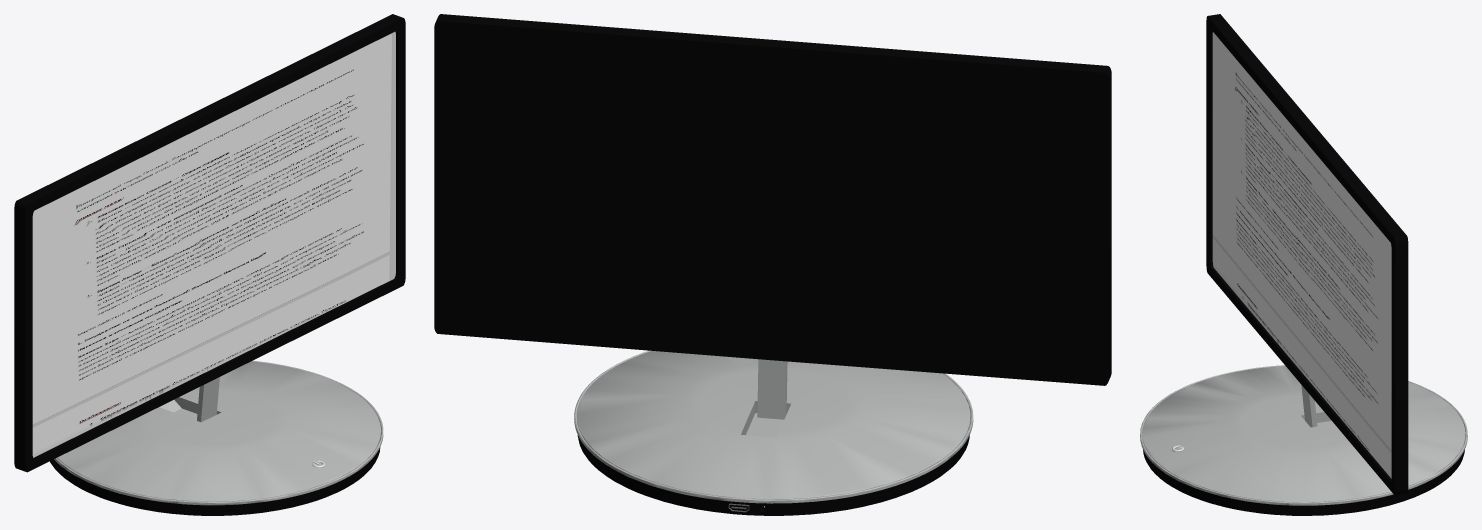
Rendered from  Monitor.fbx.
3 renders of one model, left to right at view 1: azimuth 30°, elevation 25°; view 2: azimuth 150°, elevation 25°; view 3: azimuth 270°, elevation 25°, orthographic. The views are drawn at different scales.
Parts seen in each view (by area): view 1: monitör.001; view 2: monitör.001; view 3: monitör.001.
Part boxes in pixels (x1,y1,x2,y2): monitör.001: (14, 14, 405, 515); monitör.001: (434, 14, 1111, 515); monitör.001: (1140, 14, 1467, 515).
Size of the model in its own units: 0.8208 by 0.5439 by 0.5027.
